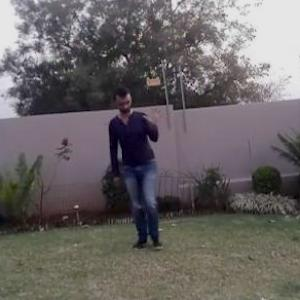follow_hand: (142, 104, 165, 126)
